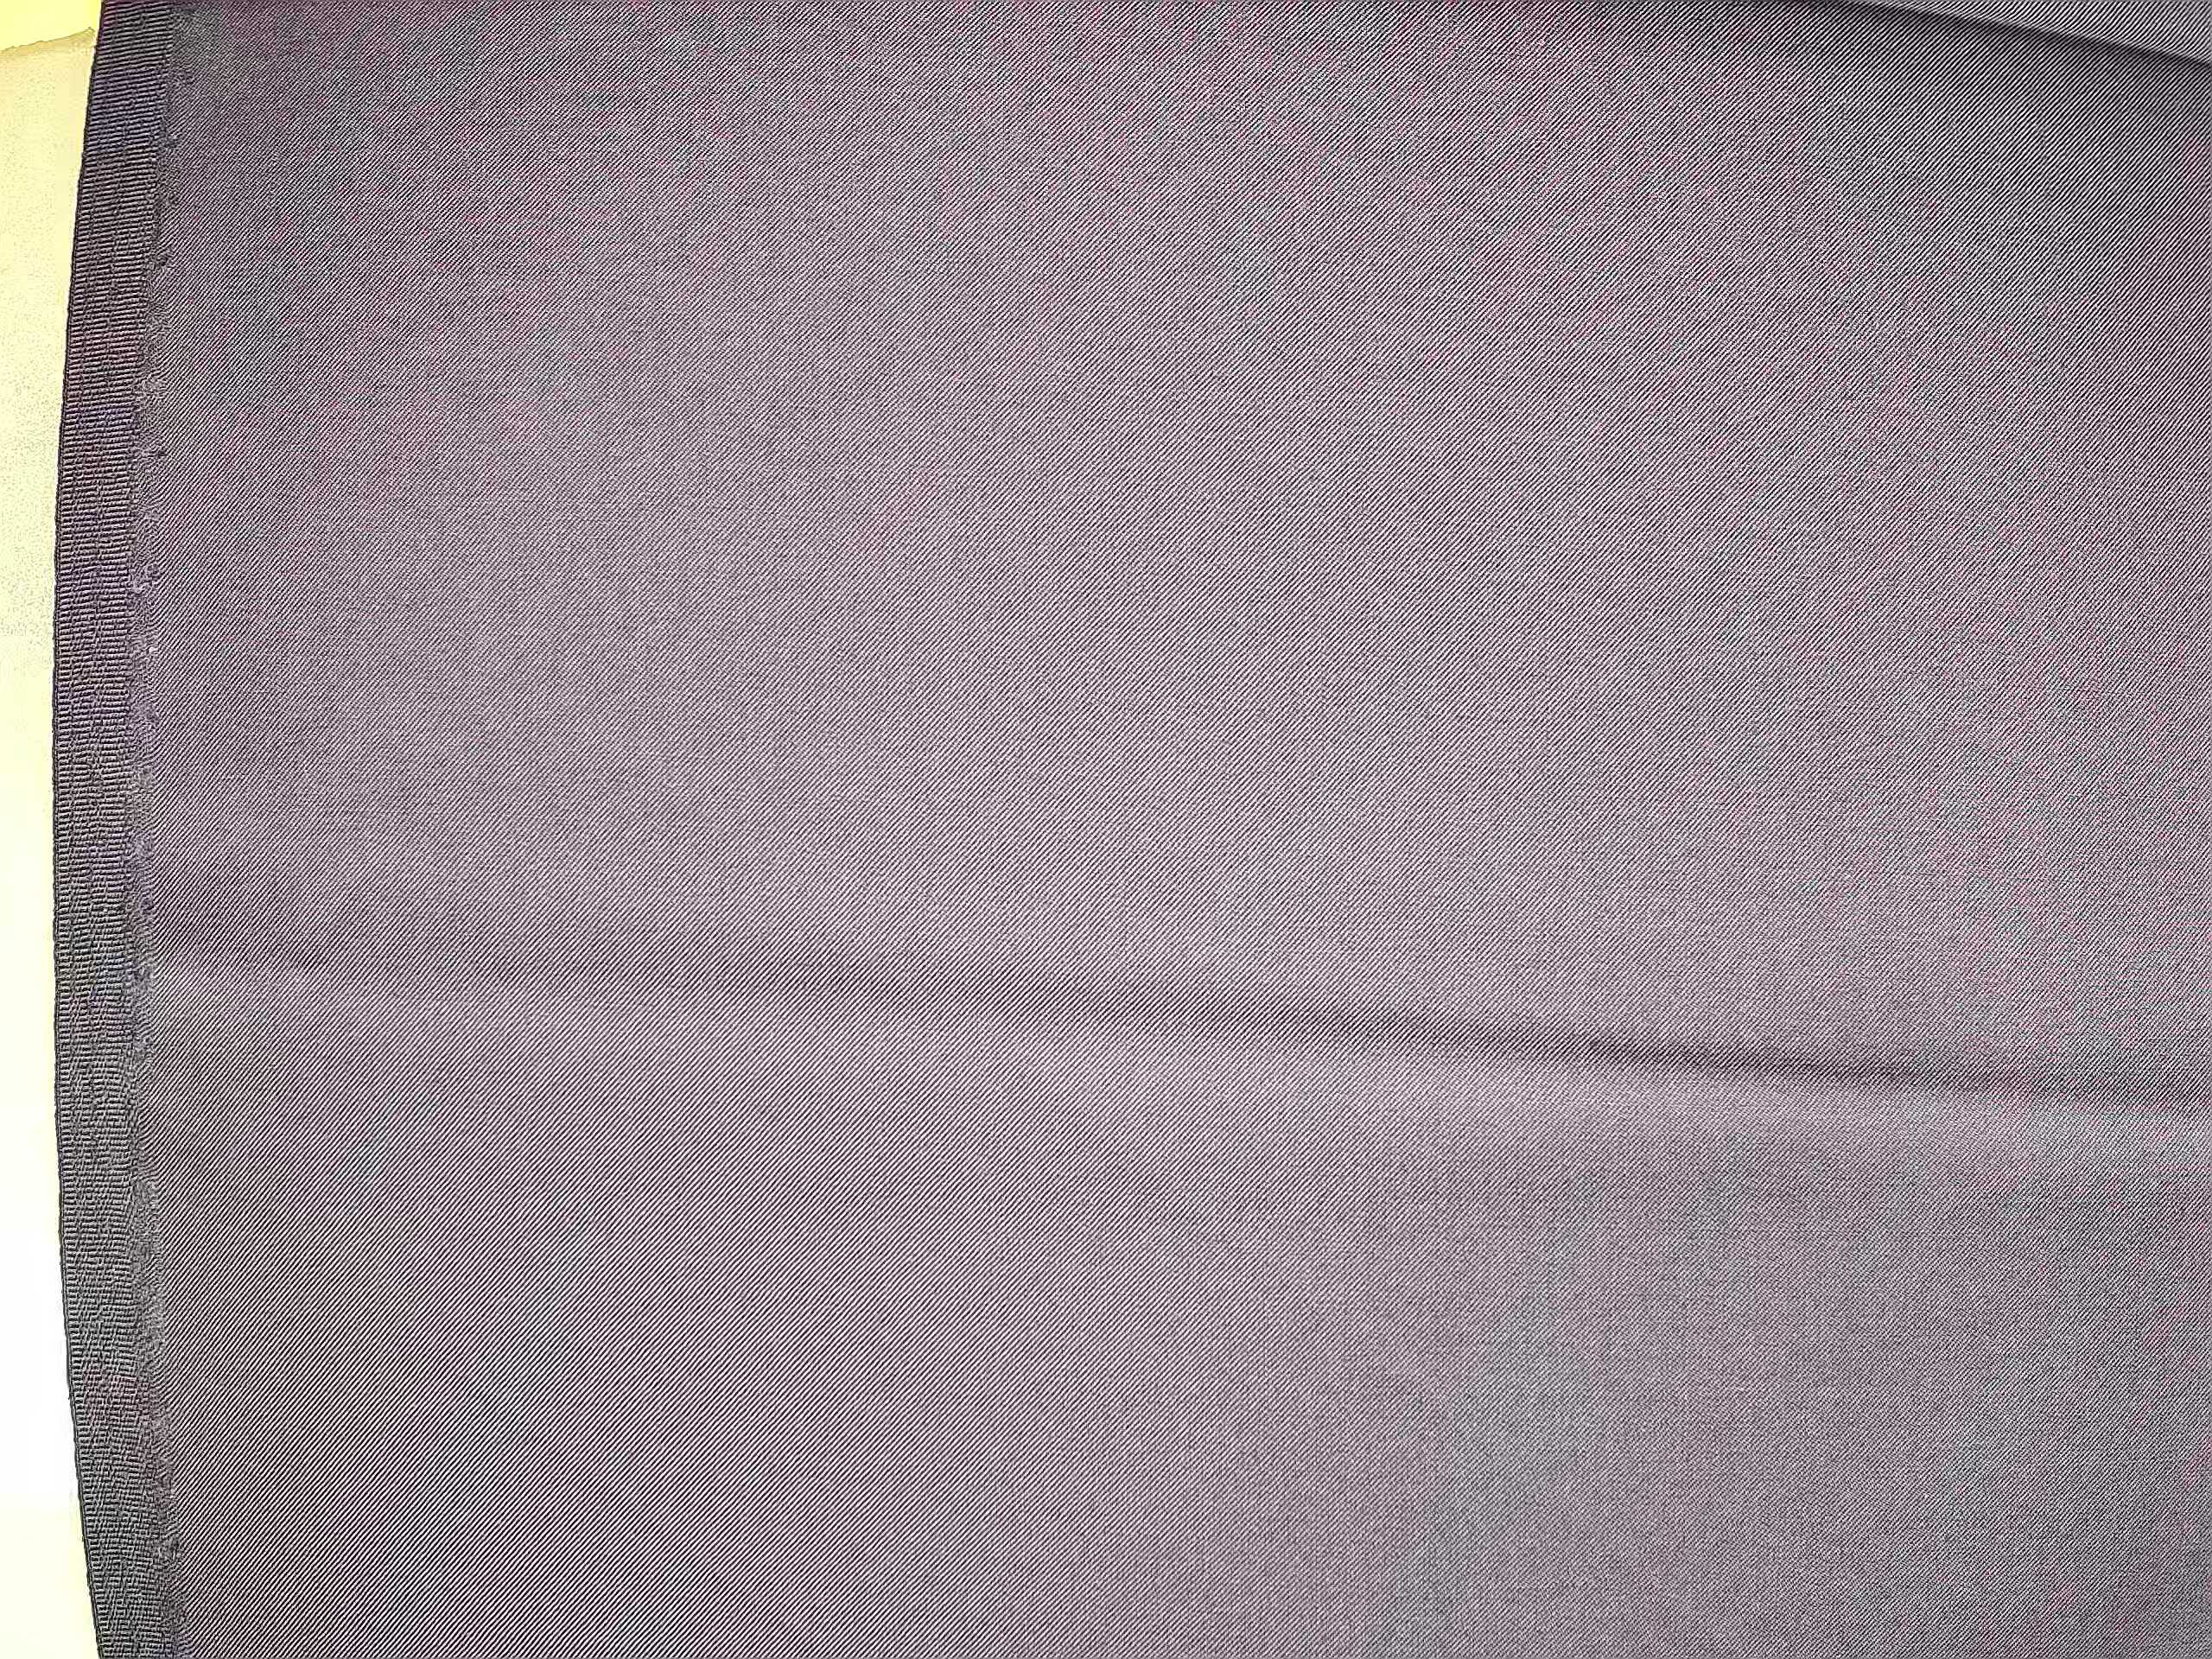puncture-hole: (125, 124, 183, 1073)
